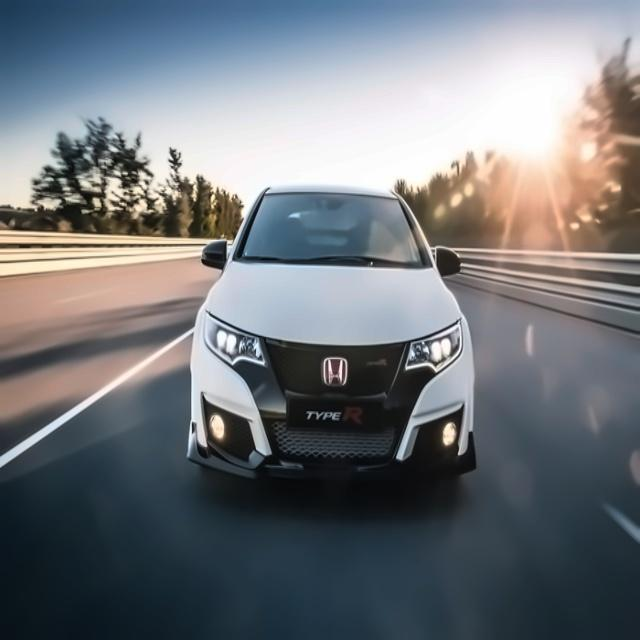Car hood: (203, 262, 462, 349)
Front bumper: (182, 373, 488, 486)
Headlight - -L-: (396, 313, 469, 381)
Headlight - -R-: (197, 307, 270, 369)
Side mirror - -L-: (422, 239, 470, 281)
Side mirror - -R-: (188, 232, 236, 272)
